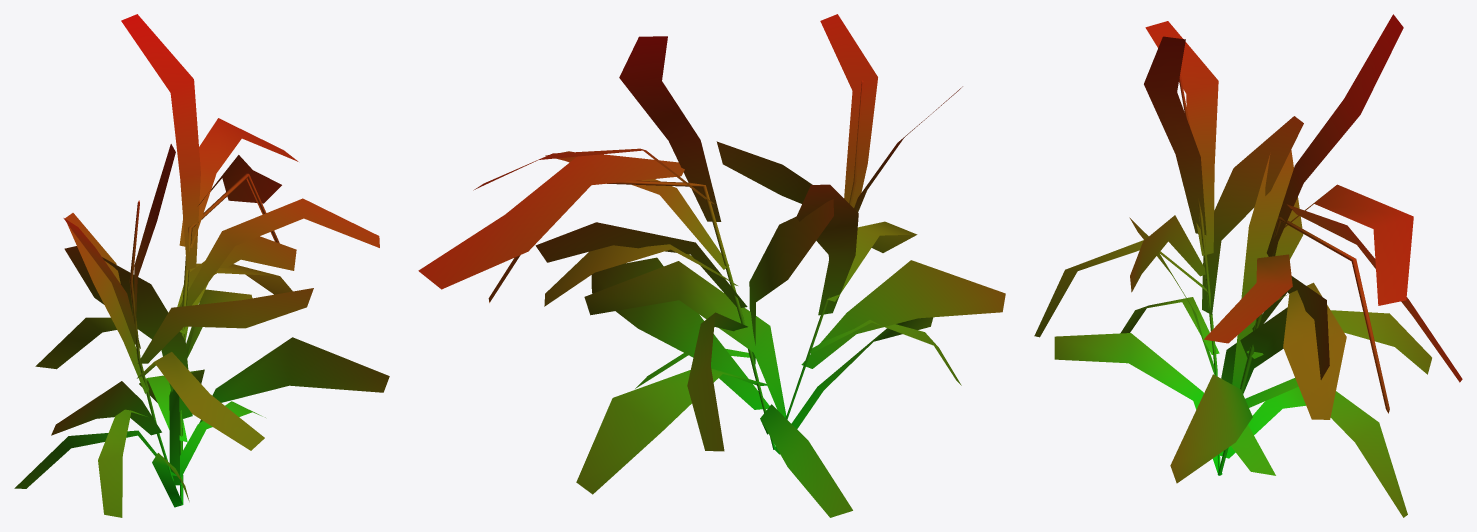
Rendered from Var8_LOD2.fbx.
3 renders of one model, left to right at view 1: azimuth 30°, elevation 25°; view 2: azimuth 150°, elevation 25°; view 3: azimuth 270°, elevation 25°, orthographic. The views are drawn at different scales.
Parts seen in each view (by area): view 1: _e749_Var8_LOD2; view 2: _e749_Var8_LOD2; view 3: _e749_Var8_LOD2.
Boxes of the visible parts, <box> form: _e749_Var8_LOD2: <box>14,14,389,517</box>; _e749_Var8_LOD2: <box>418,14,1005,517</box>; _e749_Var8_LOD2: <box>1034,14,1462,517</box>.
Bounding box in the file's own units: 29.86 × 32.14 × 26.37.
